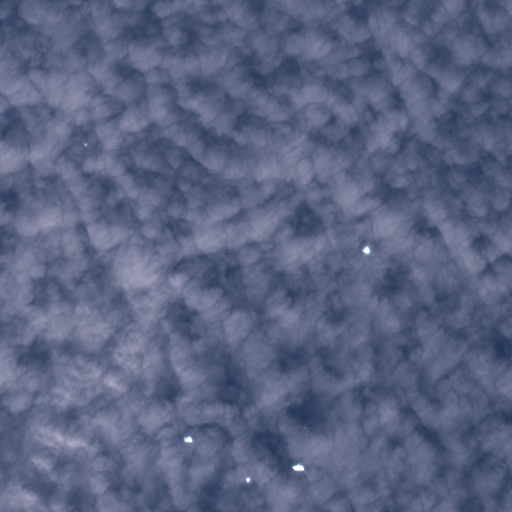Iceberg: (292, 464, 303, 470), (362, 246, 369, 253), (185, 437, 191, 442), (246, 478, 249, 482), (84, 143, 86, 146)
